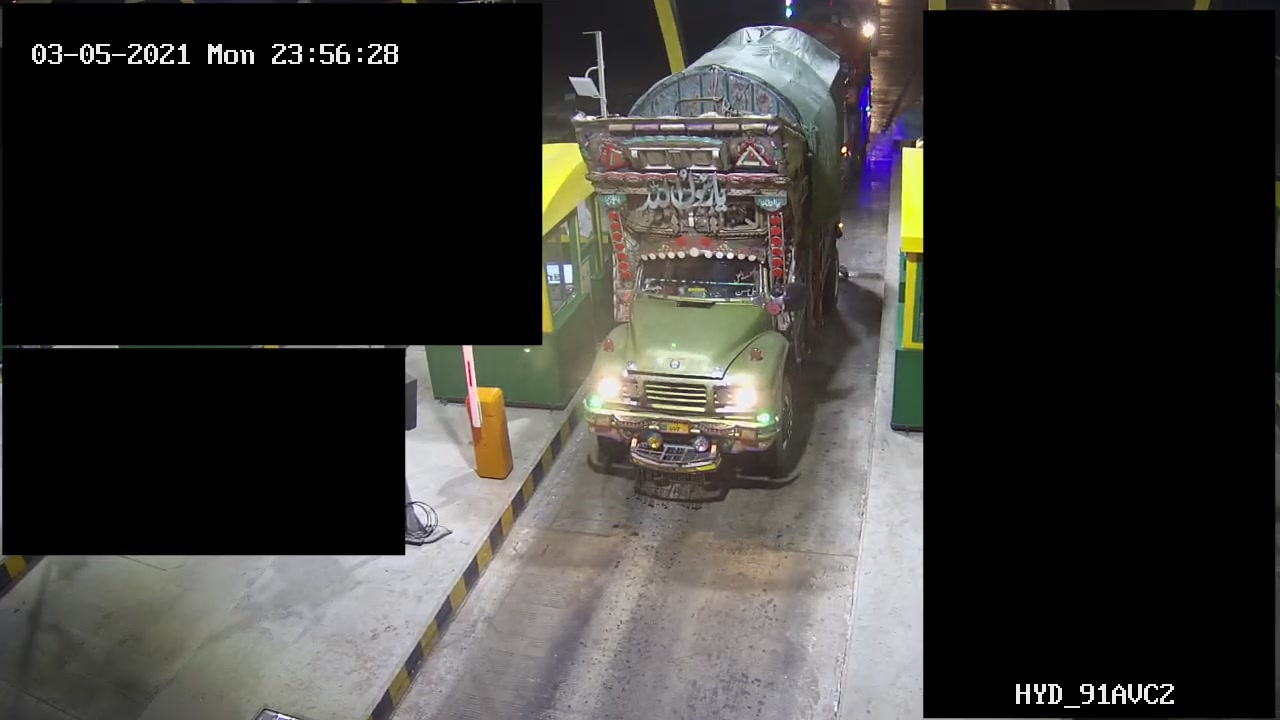F5: (572, 27, 844, 478)
